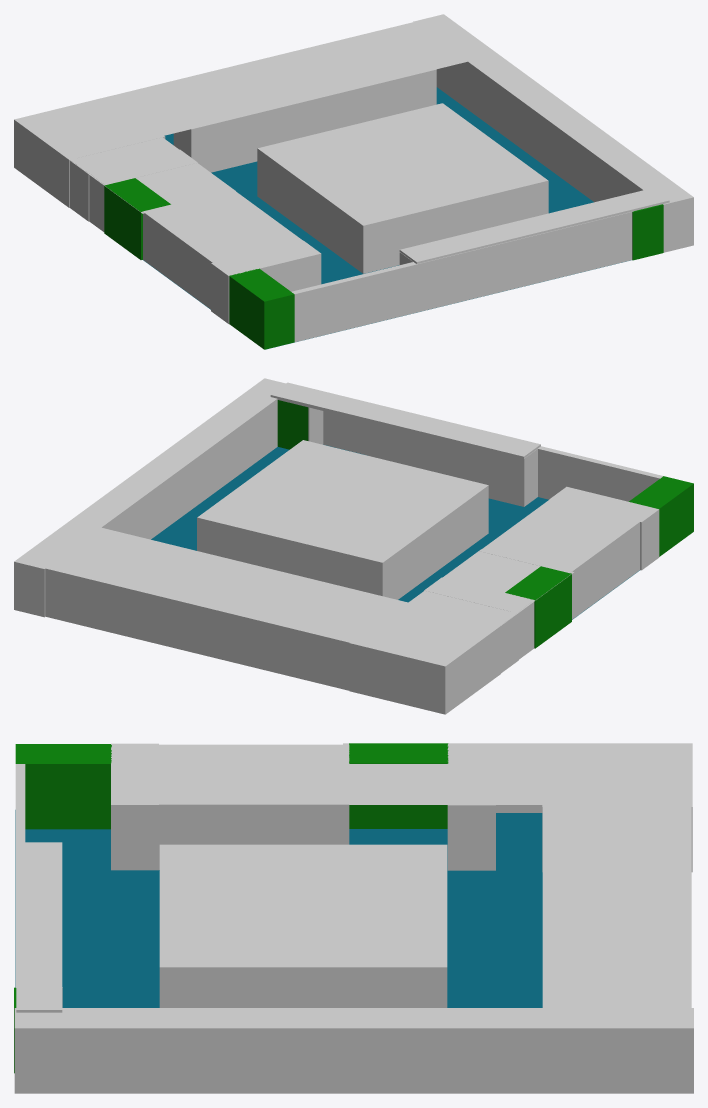
The model's file is grant.DAE.
3 views of the same model, one above another, from view 1: azimuth 30°, elevation 25°; view 2: azimuth 150°, elevation 25°; view 3: azimuth 270°, elevation 25° (orthographic). The views are drawn at different scales.
Parts seen in each view (by area): view 1: Box001, Box017, Box006, Box007, Box005, Box008, Box002, Plane001, Box019, Box012, Box009, Box018 (+4 smaller); view 2: Box001, Box017, Box007, Box014, Box002, Box008, Box015, Box006, Box019, Plane001, Box018, Box010 (+7 smaller); view 3: Box007, Box001, Plane001, Box017, Box008, Box019, Box002, Box012, Box018, Box003, Box009, Box010 (+3 smaller).
Boxes of the visible parts, x1=… form: Box001: x1=257, y1=103, x2=548, y2=273; Box017: x1=91, y1=18, x2=484, y2=140; Box006: x1=291, y1=211, x2=633, y2=342; Box007: x1=413, y1=14, x2=693, y2=252; Box005: x1=173, y1=69, x2=436, y2=172; Box008: x1=143, y1=189, x2=302, y2=309; Box002: x1=14, y1=101, x2=165, y2=207; Plane001: x1=143, y1=87, x2=630, y2=349; Box019: x1=399, y1=188, x2=669, y2=263; Box012: x1=229, y1=268, x2=294, y2=349; Box009: x1=211, y1=240, x2=321, y2=323; Box018: x1=69, y1=137, x2=235, y2=213; Box001: x1=197, y1=440, x2=488, y2=599; Box017: x1=30, y1=523, x2=424, y2=645; Box007: x1=14, y1=378, x2=285, y2=617; Box014: x1=42, y1=567, x2=355, y2=690; Box002: x1=349, y1=607, x2=500, y2=714; Box008: x1=479, y1=500, x2=639, y2=619; Box015: x1=367, y1=422, x2=523, y2=506; Box006: x1=323, y1=411, x2=663, y2=501; Box019: x1=270, y1=382, x2=540, y2=459; Plane001: x1=151, y1=444, x2=639, y2=619; Box018: x1=408, y1=549, x2=573, y2=625; Box010: x1=505, y1=566, x2=571, y2=648; Box007: x1=14, y1=1008, x2=693, y2=1093; Box001: x1=159, y1=844, x2=447, y2=1007; Plane001: x1=15, y1=810, x2=542, y2=1007; Box017: x1=542, y1=792, x2=689, y2=1017; Box008: x1=158, y1=744, x2=349, y2=869; Box019: x1=16, y1=842, x2=62, y2=1012; Box002: x1=542, y1=743, x2=692, y2=872; Box012: x1=15, y1=744, x2=111, y2=829; Box018: x1=343, y1=743, x2=542, y2=804; Box003: x1=447, y1=744, x2=495, y2=870; Box009: x1=111, y1=743, x2=158, y2=870; Box010: x1=349, y1=743, x2=448, y2=828.
Bounding box in the file's own units: 140 × 141 × 15.65.
